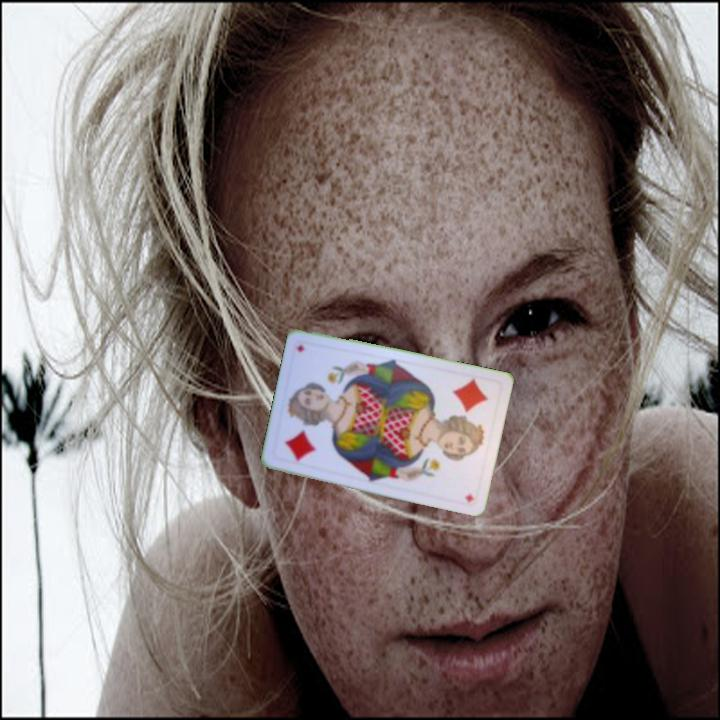d_q.png: (433, 369, 503, 446), (270, 397, 340, 473)
